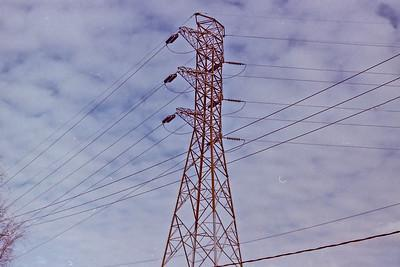power_tower: (150, 4, 252, 267)
